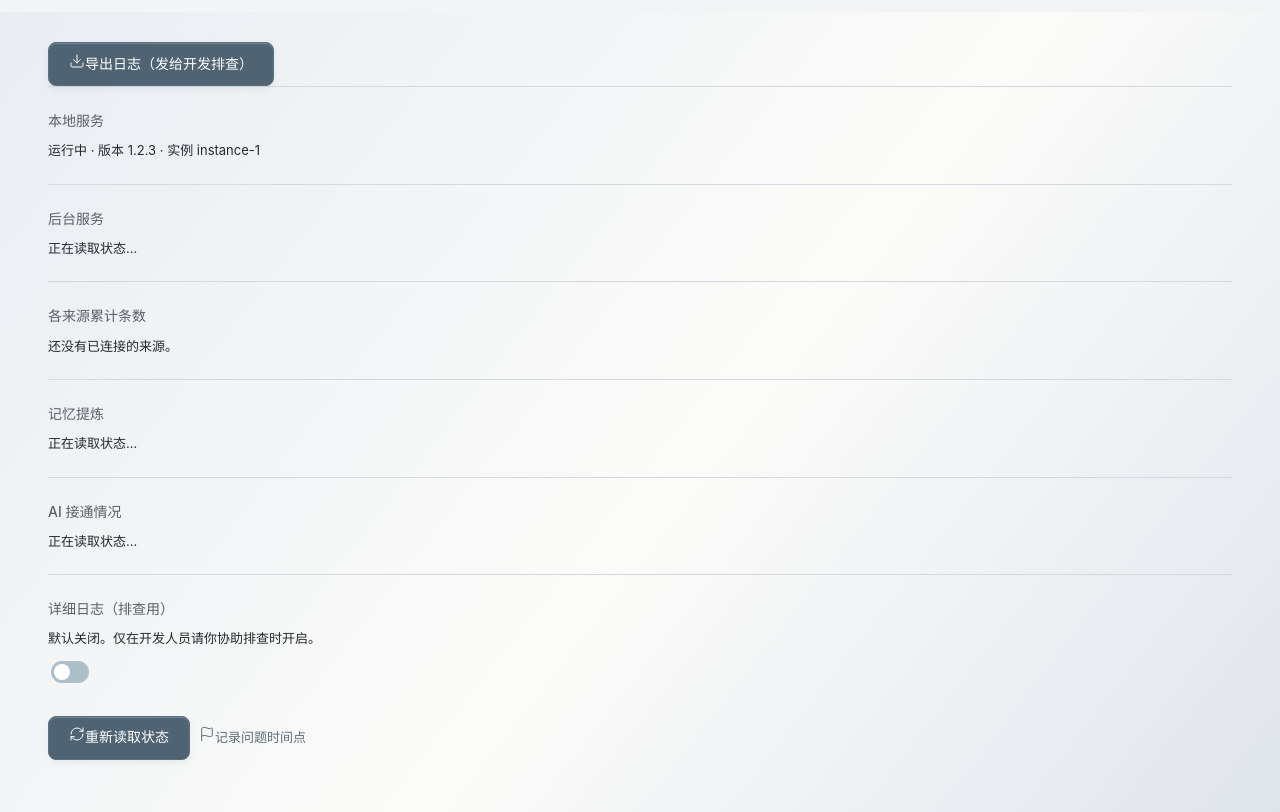
Scenario: HealthPanel › 回报导出失败，而不是静默像成功
(page scrolled)
Click the button "导出日志（发给开发排查）": {"x": 161, "y": 64} [48, 42, 274, 86]
(page scrolled)
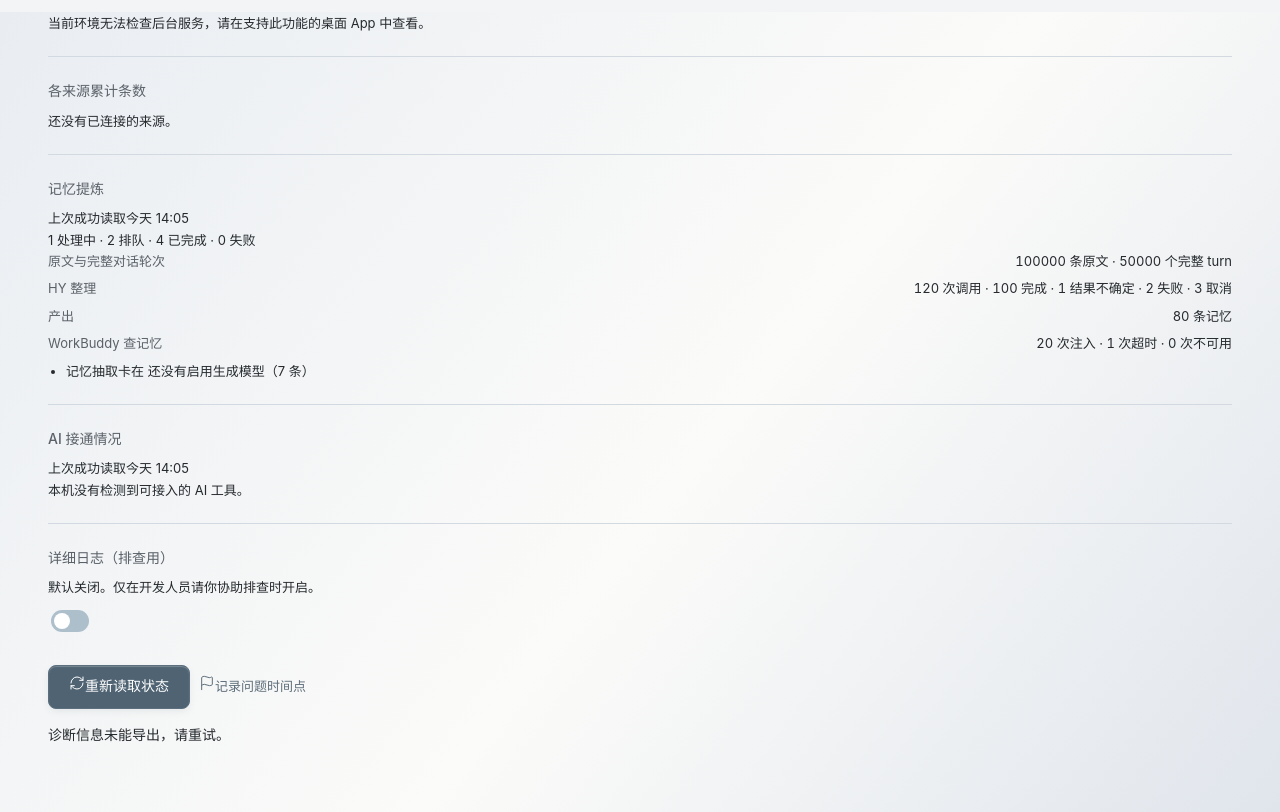
Check: the text "诊断信息未能导出，请重试。" is shown, box [48, 726, 230, 743]
